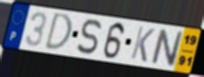3: (25, 11, 48, 48)
6: (102, 21, 127, 60)
D: (43, 11, 73, 51)
K: (129, 25, 156, 64)
N: (150, 27, 185, 69)
S: (75, 18, 103, 56)
